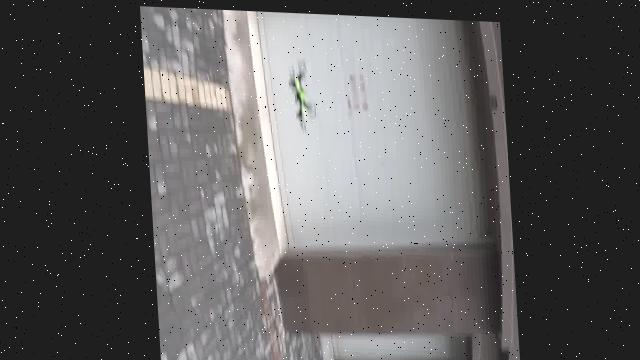drone: (281, 54, 324, 127)
